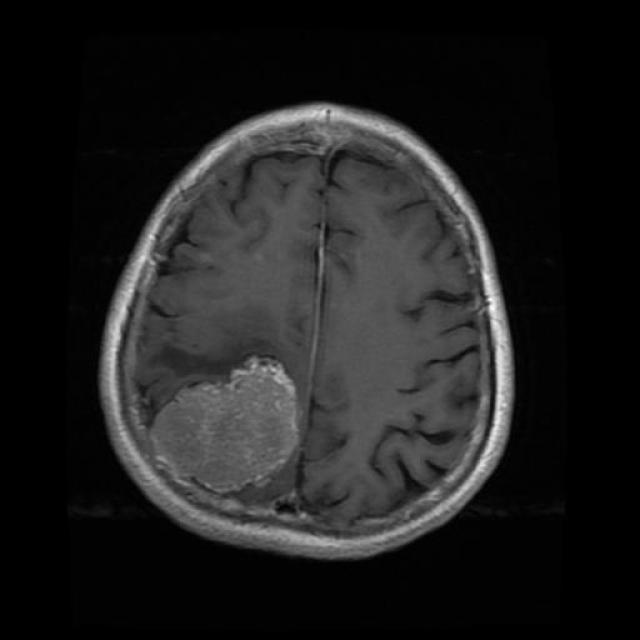meningioma: (155, 360, 296, 489)
